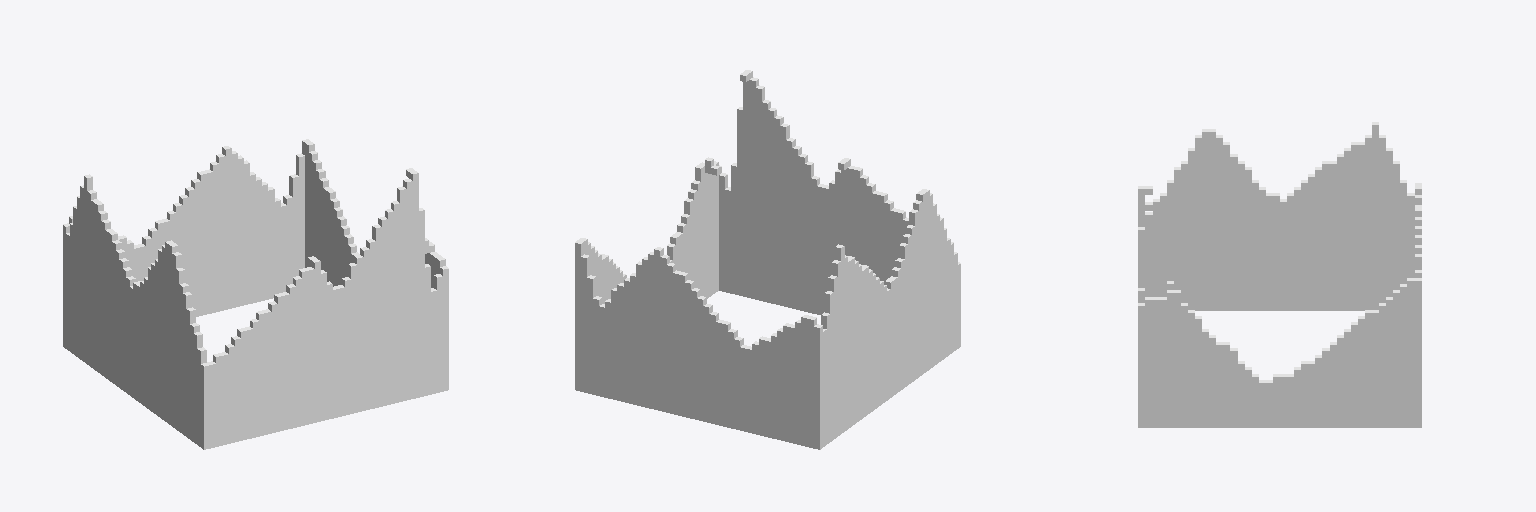
The model's file is BackgroundMountains.obj.
The picture shows the model from 3 angles: view 1: azimuth 30°, elevation 25°; view 2: azimuth 150°, elevation 25°; view 3: azimuth 270°, elevation 25°; orthographic projection.
Parts seen in each view (by area): view 1: object 1; view 2: object 1; view 3: object 1.
Part boxes in pixels (x1,y1,x2,y2): object 1: (63, 139, 448, 449); object 1: (575, 70, 960, 449); object 1: (1138, 122, 1421, 427).
Bounding box in the file's own units: 4 × 3.5 × 4.